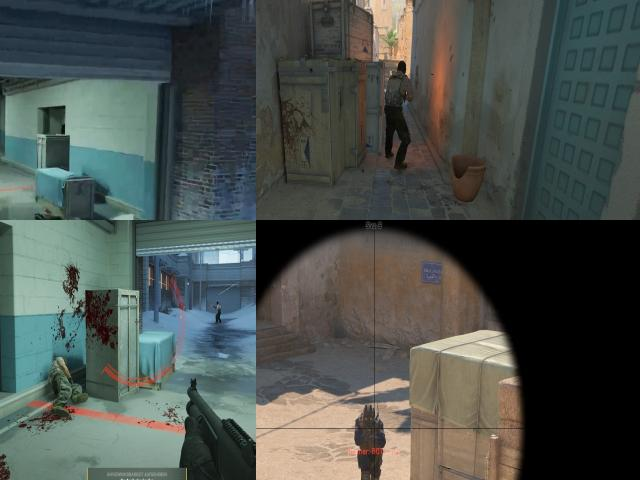CT: (354, 403, 384, 480)
CT-Head: (363, 404, 374, 426)
Dead: (49, 350, 85, 417), (29, 207, 98, 220)
T: (386, 60, 408, 154), (215, 300, 222, 322)
T-Head: (398, 62, 406, 74), (216, 301, 220, 305)
